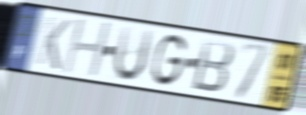7: (235, 39, 274, 104)
B: (189, 36, 237, 96)
G: (149, 32, 189, 89)
H: (60, 17, 115, 79)
K: (34, 14, 73, 72)
U: (112, 24, 156, 84)
